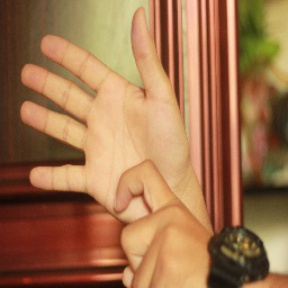R: (16, 7, 213, 288)
